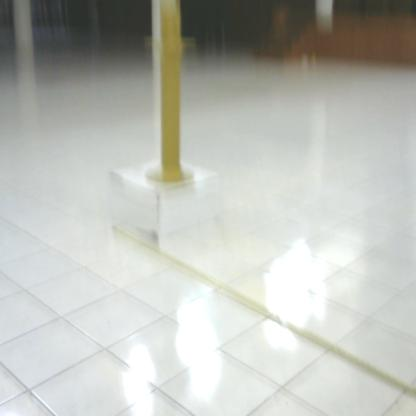pole: (137, 1, 203, 191)
